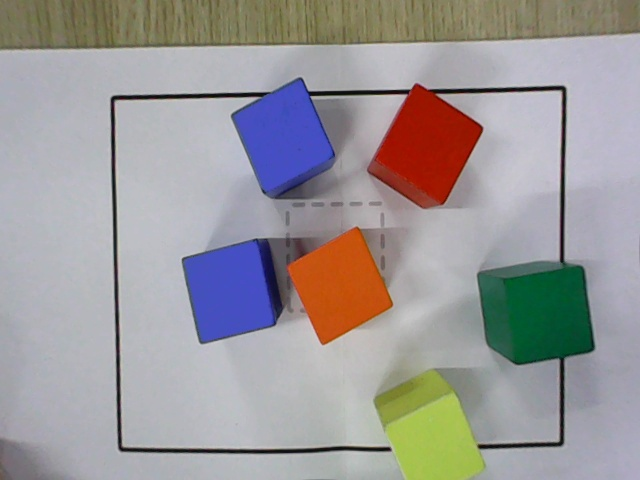upside of small cube: (373, 84, 484, 205), (285, 227, 395, 345), (230, 78, 336, 193), (181, 239, 276, 344), (383, 390, 487, 479), (503, 267, 595, 365)
